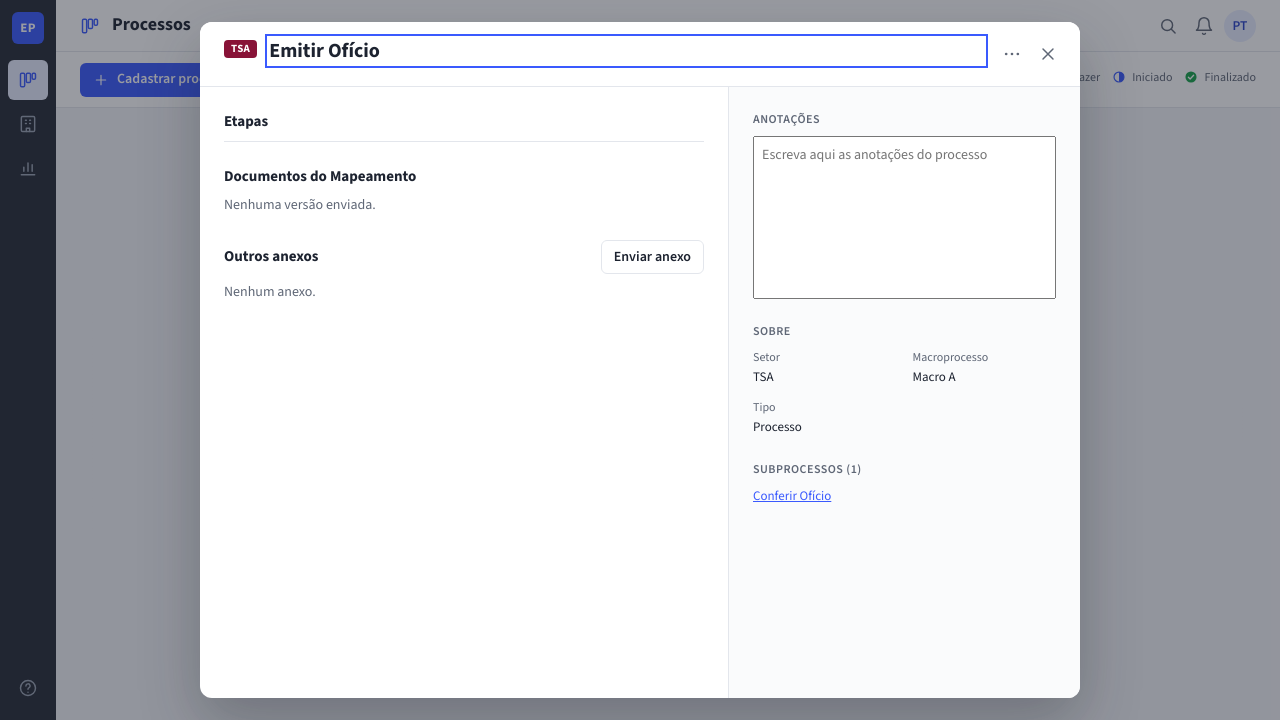
Test: processo com subprocessos não vira subprocesso: a recusa com a contagem
Click the button named "Ações do processo" at x=1012, y=54, box [996, 38, 1028, 70]
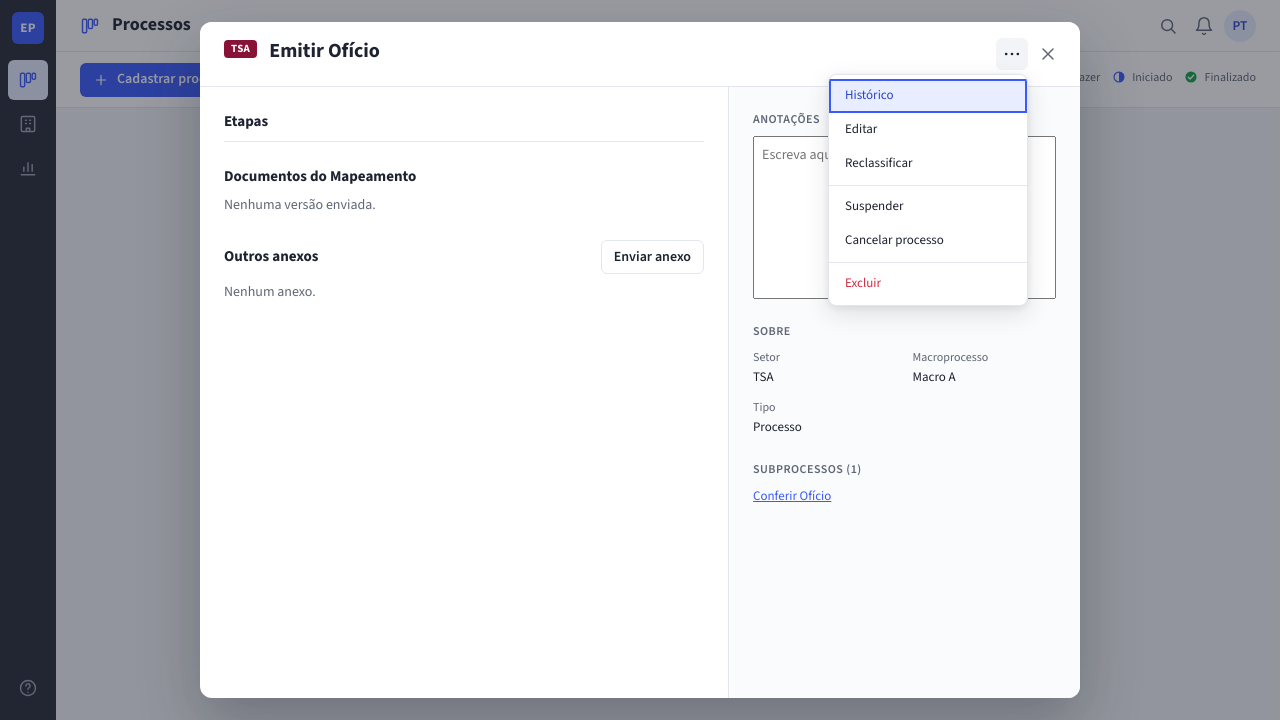
Click the menu item "Reclassificar" at x=928, y=164, box [829, 147, 1027, 181]
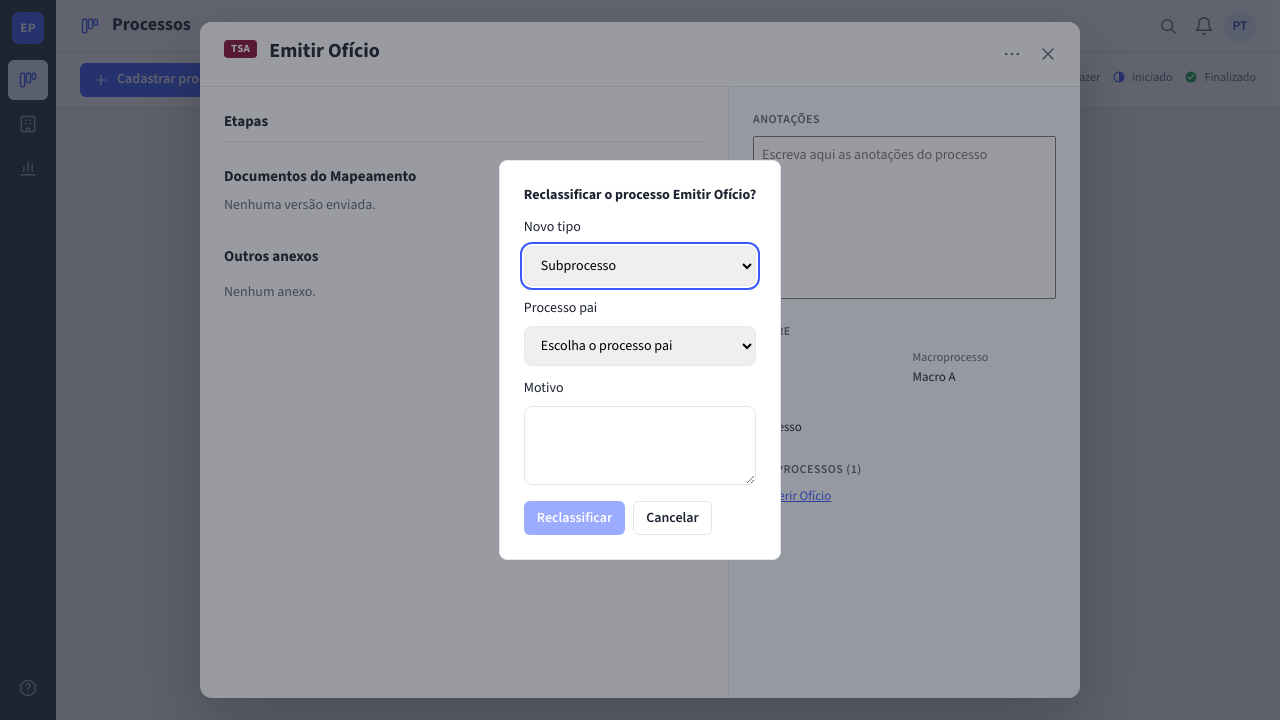
Select "TSA — Arquivar" in the dropdown labelled "Processo pai" at x=640, y=346, box [524, 326, 756, 366]
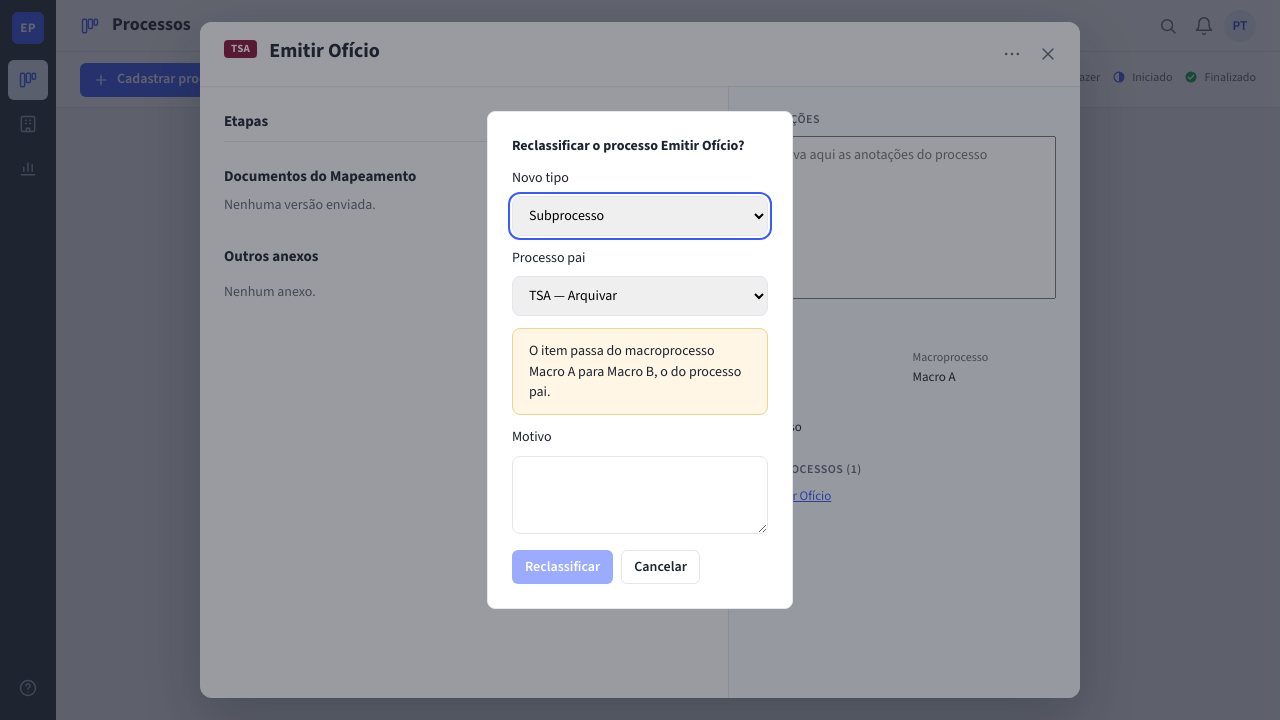
Type "Tentativa" into the text box labelled "Motivo" at x=640, y=495, box [512, 456, 768, 534]
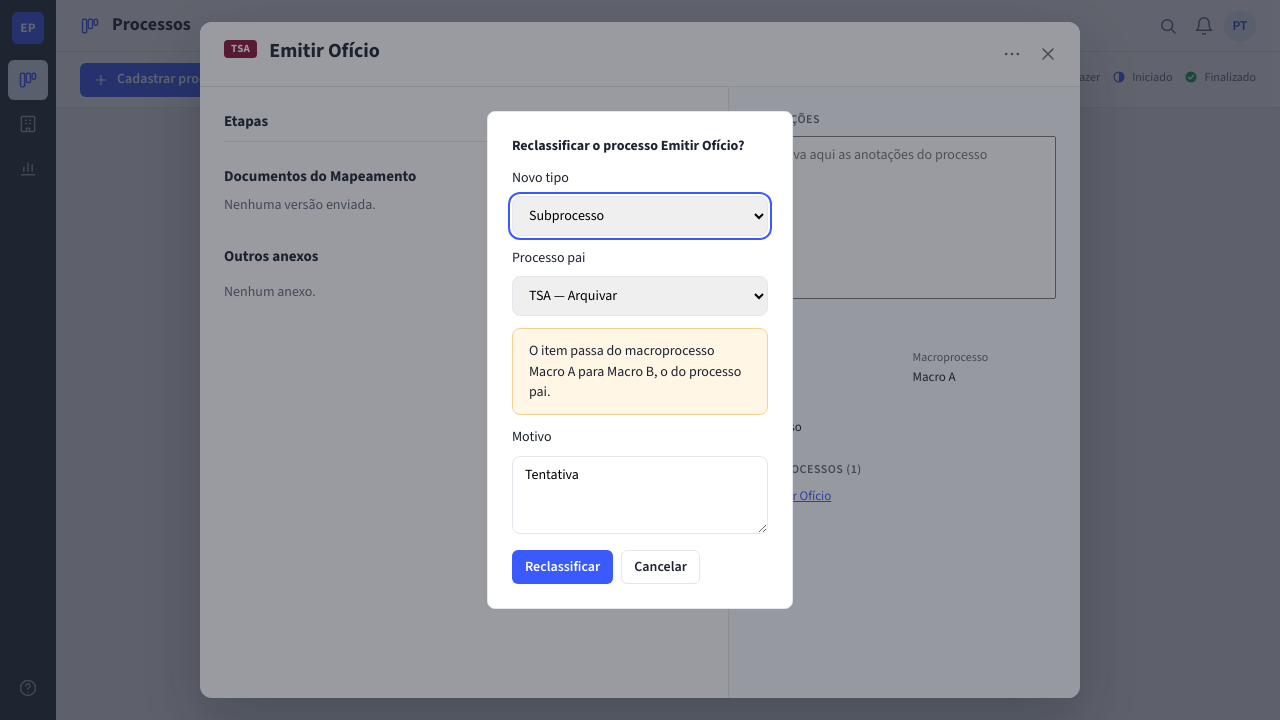
Click the button "Reclassificar" at x=563, y=568, box [512, 550, 613, 584]
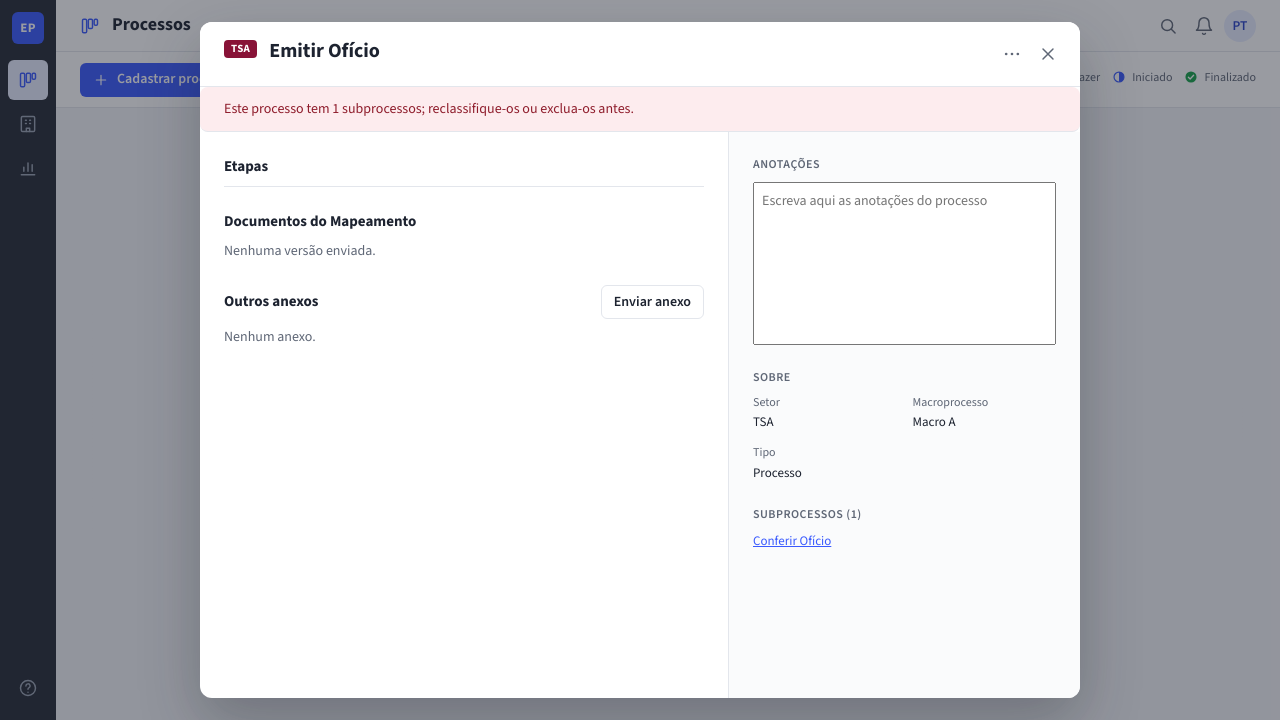
Expected: the message reads "Este processo tem 1 subprocessos; reclassifique-os ou exclua-os antes.", [224, 99, 634, 119]
